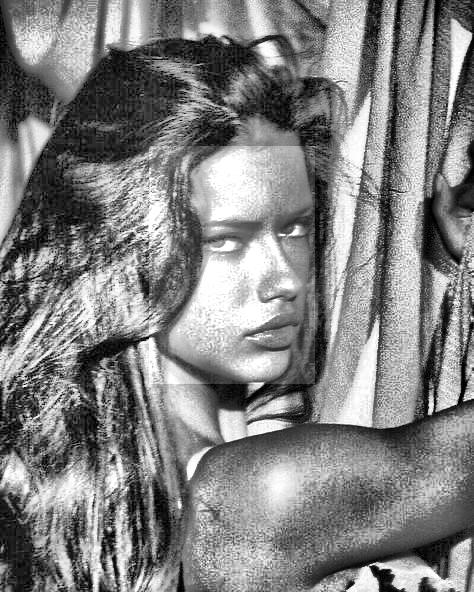sad: (149, 147, 315, 385)
